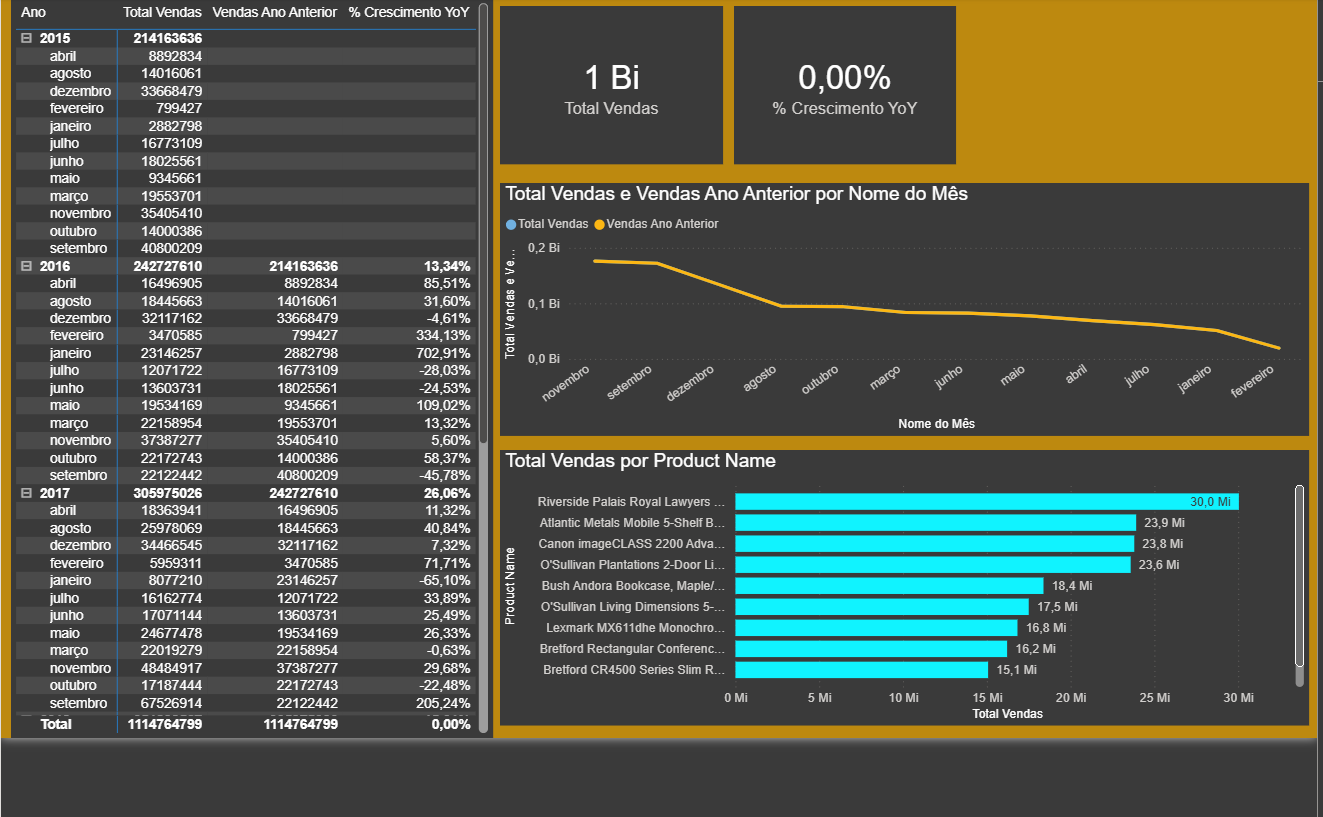

The dashboard page shown, as its layout file describes it:
{"tool":"powerbi","page":{"name":"Página 1","canvas":[1280,720],"ordinal":0},"visuals":[{"type":"pivotTable","fields":{"Rows":["dCalendario.Ano","dCalendario.Nome do Mês"],"Values":["Fato_Vendas.Total Vendas","Fato_Vendas.Vendas Ano Anterior","Fato_Vendas.% Crescimento YoY"]},"box":[9.7,0,468.8,719.8],"z":0},{"type":"lineChart","fields":{"Category":["dCalendario.Nome do Mês"],"Y":["Fato_Vendas.Total Vendas","Fato_Vendas.Vendas Ano Anterior"]},"box":[485.3,179.9,786.9,246.1],"z":1},{"type":"card","fields":{"Values":["Fato_Vendas.Total Vendas"]},"box":[485.3,7.8,216.9,153.7],"z":2},{"type":"card","fields":{"Values":["Fato_Vendas.% Crescimento YoY"]},"box":[712.9,7.8,215.9,153.7],"z":3},{"type":"clusteredBarChart","fields":{"Category":["Dim_Produtos.Product Name"],"Y":["Fato_Vendas.Total Vendas"]},"box":[485.3,439.6,786.9,268.4],"z":4}]}

Visuals, with their boxes in screenshot pixels (x1, y1, x2, y2):
pivotTable - dCalendario.Ano x dCalendario.Nome do Mês: <region>6, 0, 484, 734</region>
lineChart - dCalendario.Nome do Mês x Fato_Vendas.Total Vendas: <region>491, 183, 1293, 434</region>
card - Fato_Vendas.Total Vendas: <region>491, 8, 712, 165</region>
card - Fato_Vendas.% Crescimento YoY: <region>723, 8, 943, 165</region>
clusteredBarChart - Dim_Produtos.Product Name x Fato_Vendas.Total Vendas: <region>491, 448, 1293, 722</region>
